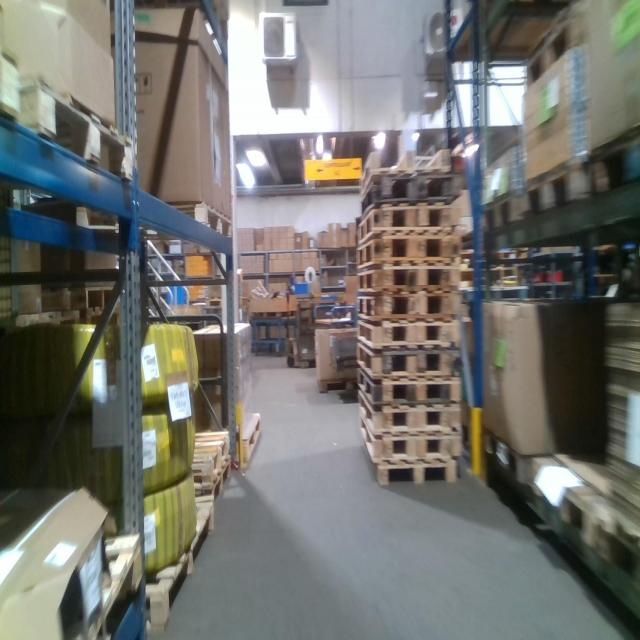pallet: (537, 444, 639, 597), (20, 60, 135, 183), (130, 489, 218, 626), (48, 521, 142, 636), (75, 198, 234, 247), (522, 141, 602, 234), (521, 1, 598, 93), (357, 227, 457, 267), (360, 171, 453, 214), (358, 202, 457, 242), (357, 287, 459, 323), (588, 122, 639, 193), (356, 257, 459, 292), (363, 428, 463, 464), (356, 401, 459, 435), (171, 425, 230, 481), (482, 419, 528, 490), (356, 375, 460, 405), (353, 352, 456, 381), (476, 182, 520, 247), (356, 324, 459, 351), (172, 457, 233, 502), (46, 280, 118, 317), (375, 467, 460, 492), (1, 45, 26, 126), (240, 412, 262, 472), (316, 379, 355, 395)
pallet_truck: (279, 284, 302, 368)
